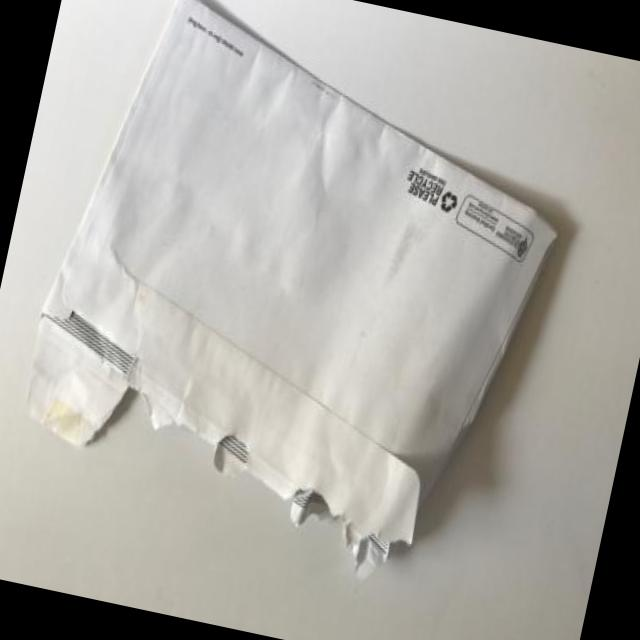paper: (30, 0, 554, 565)
